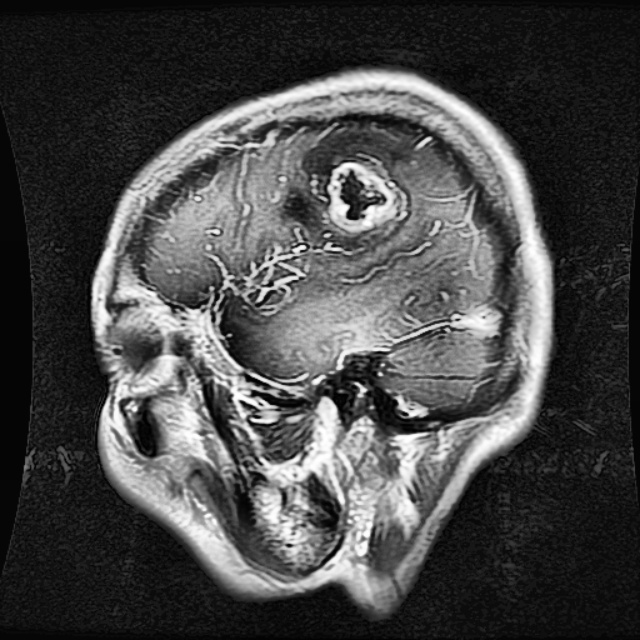Meningioma: (330, 159, 407, 229)
